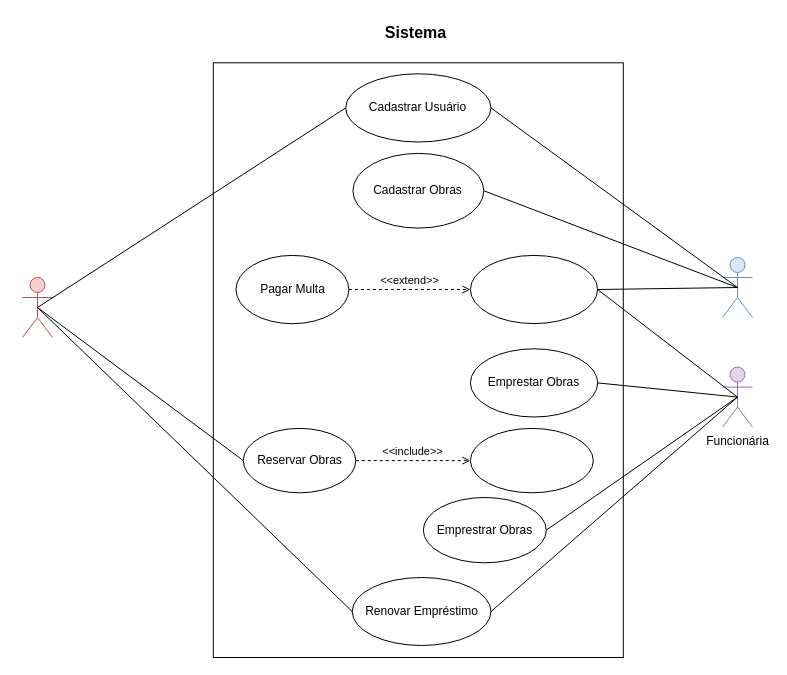
The diagram is 787 pixels wide and 675 high, and some of its shapes have lost their labels. Each missing label, with the centre of its shape:
"Bibliotecária" belongs at point 737,287.
"Devolver Obras" belongs at point 533,289.
"Logar no Sistema" belongs at point 531,460.
"Usuário" belongs at point 37,307.
